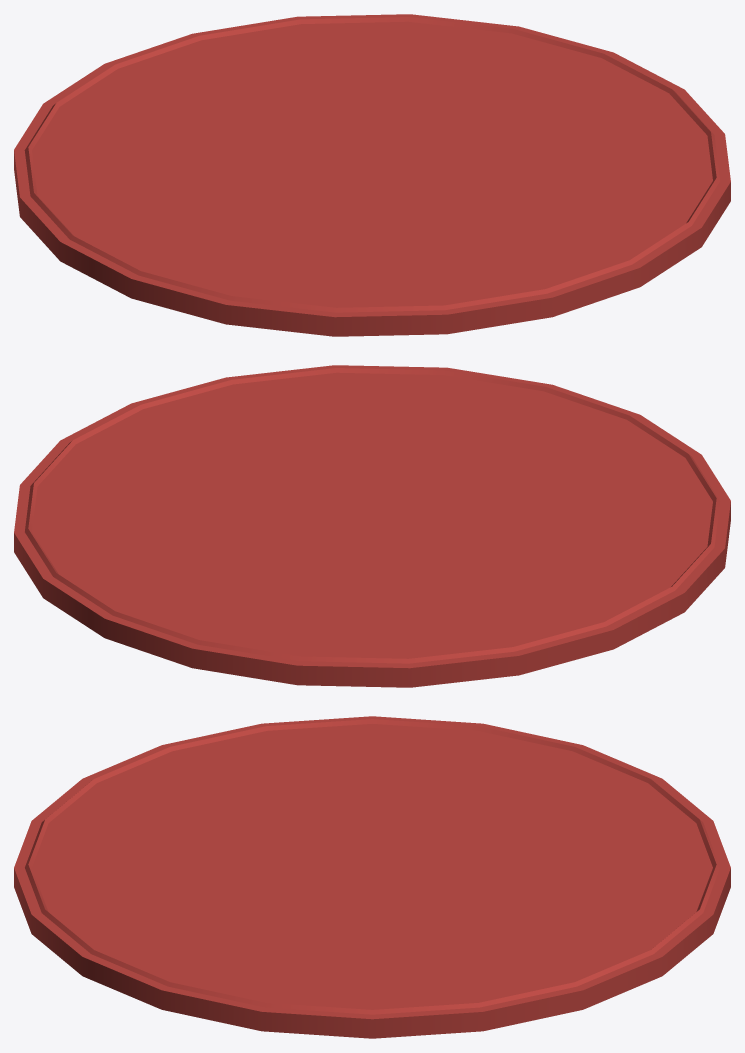
Rendered from oval_lod1.glb.
3 views of the same model, one above another, from view 1: azimuth 30°, elevation 25°; view 2: azimuth 150°, elevation 25°; view 3: azimuth 270°, elevation 25° (orthographic).
Parts seen in each view (by area): view 1: oval_lod1; view 2: oval_lod1; view 3: oval_lod1.
Boxes of the visible parts, bbox=[...] form: oval_lod1: bbox=[14, 14, 730, 336]; oval_lod1: bbox=[14, 365, 730, 687]; oval_lod1: bbox=[14, 716, 730, 1038].
Size of the model in its own units: 0.2 by 0.008 by 0.2.
